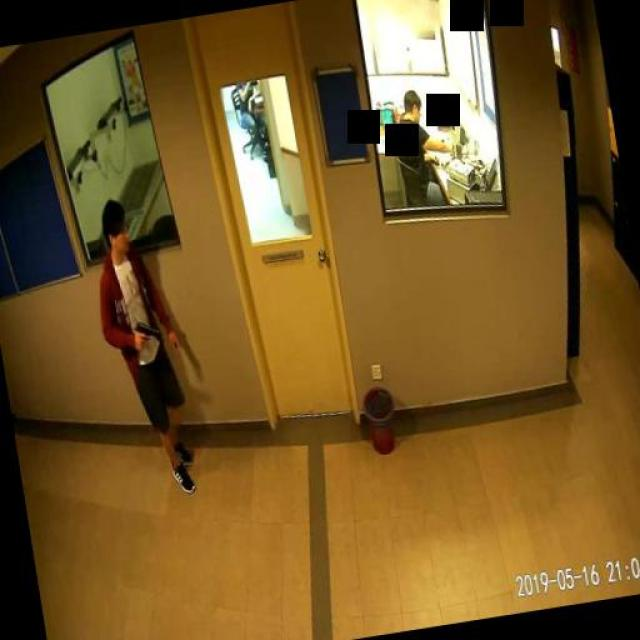gun: (132, 316, 160, 352)
